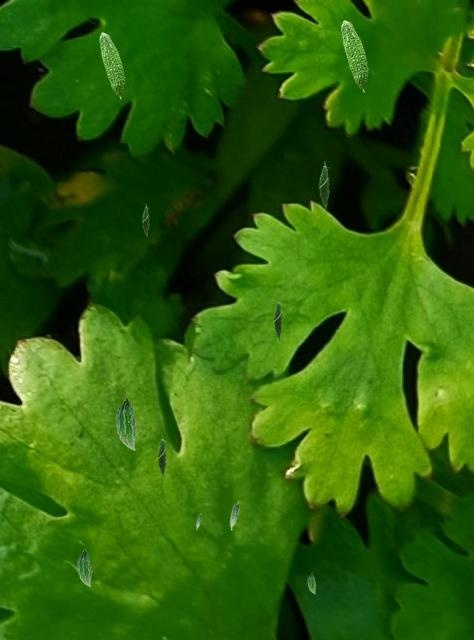ampalaya: (341, 20, 369, 92), (99, 32, 125, 99), (115, 396, 137, 451), (76, 548, 92, 587), (318, 160, 330, 209), (156, 434, 167, 477), (272, 297, 283, 340), (141, 203, 150, 237), (229, 501, 239, 530), (307, 571, 316, 594), (196, 512, 202, 530)
